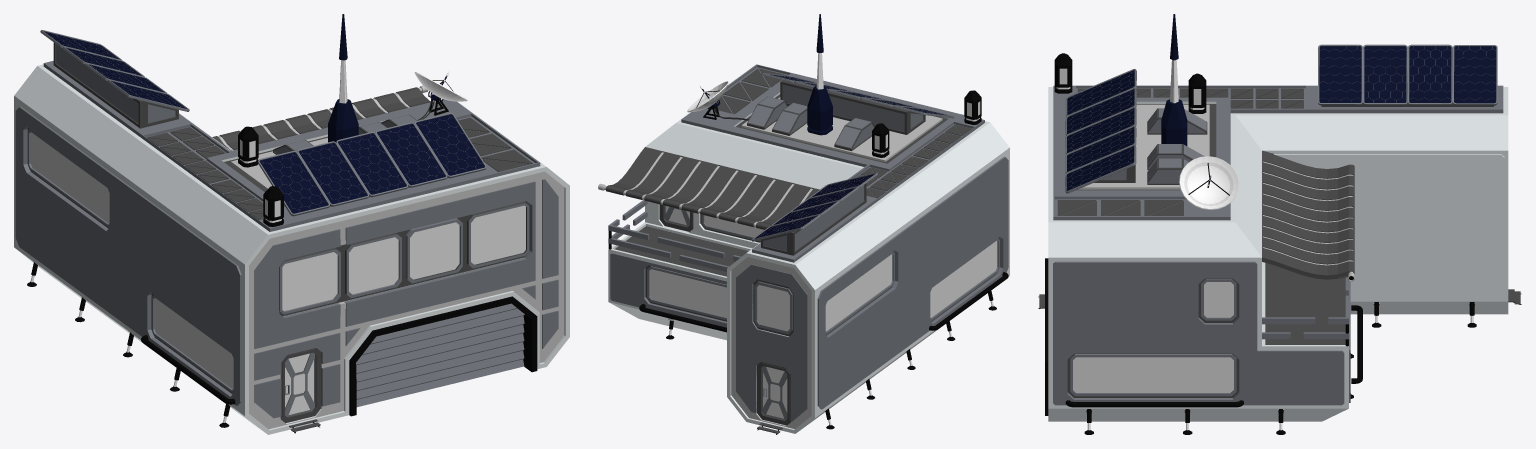
Rendered from Small_Mansion WIP.fbx.
3 renders of one model, left to right at view 1: azimuth 30°, elevation 25°; view 2: azimuth 150°, elevation 25°; view 3: azimuth 270°, elevation 25°, orthographic. The views are drawn at different scales.
Visible parts, largest first — view 1: Z_Wall_6, Z_Wall_Out_Shell, Extra_17, Extra_1, Extra_7, Extra_8, Z_Wall_1, Z_Roof, Extra_21, Extra_11, Extra_12, Extra_20 (+7 smaller); view 2: Z_Wall_Out_Shell, Z_Wall_6, Z_Roof, Extra_20, Extra_1, Extra_25, Extra_21, Extra_26, Z_Wall_3, Extra_11, Extra_3, Extra_12 (+12 smaller); view 3: Z_Wall_Out_Shell, Z_Wall_2, Z_Wall_4, Extra_1, Z_Roof, Extra_20, Extra_13, Z_Balcony, Extra_21, Extra_5, Extra_3, Extra_14 (+6 smaller).
Boxes of the visible parts, x1,y1,x2,y2 form: Z_Wall_6: (15, 106, 241, 405); Z_Wall_Out_Shell: (14, 64, 569, 434); Extra_17: (254, 179, 558, 418); Extra_1: (40, 30, 486, 216); Extra_7: (279, 201, 529, 316); Extra_8: (349, 296, 537, 416); Z_Wall_1: (249, 171, 564, 429); Z_Roof: (43, 61, 540, 231); Extra_21: (147, 117, 532, 219); Extra_11: (151, 293, 233, 394); Extra_12: (27, 128, 109, 228); Extra_20: (212, 85, 430, 150); Z_Wall_Out_Shell: (608, 65, 1009, 433); Z_Wall_6: (817, 156, 1008, 409); Z_Roof: (681, 64, 984, 262); Extra_20: (598, 147, 819, 229); Extra_1: (751, 73, 954, 255); Extra_25: (736, 264, 807, 421); Extra_21: (708, 68, 971, 198); Extra_26: (645, 265, 726, 321); Z_Wall_3: (610, 253, 726, 327); Extra_11: (930, 237, 999, 321); Extra_3: (747, 96, 874, 151); Extra_12: (825, 251, 894, 335); Z_Wall_Out_Shell: (1048, 87, 1508, 421); Z_Wall_2: (1053, 261, 1344, 405); Z_Wall_4: (1274, 154, 1504, 298); Extra_1: (1065, 44, 1497, 193); Z_Roof: (1053, 85, 1503, 220); Extra_20: (1262, 150, 1354, 281); Extra_13: (1067, 353, 1239, 397); Z_Balcony: (1265, 263, 1345, 344); Extra_21: (1057, 88, 1303, 215); Extra_5: (1179, 156, 1239, 209); Extra_3: (1147, 108, 1207, 184); Extra_14: (1198, 278, 1239, 322).
Bounding box in the file's own units: 370 × 350 × 453.
